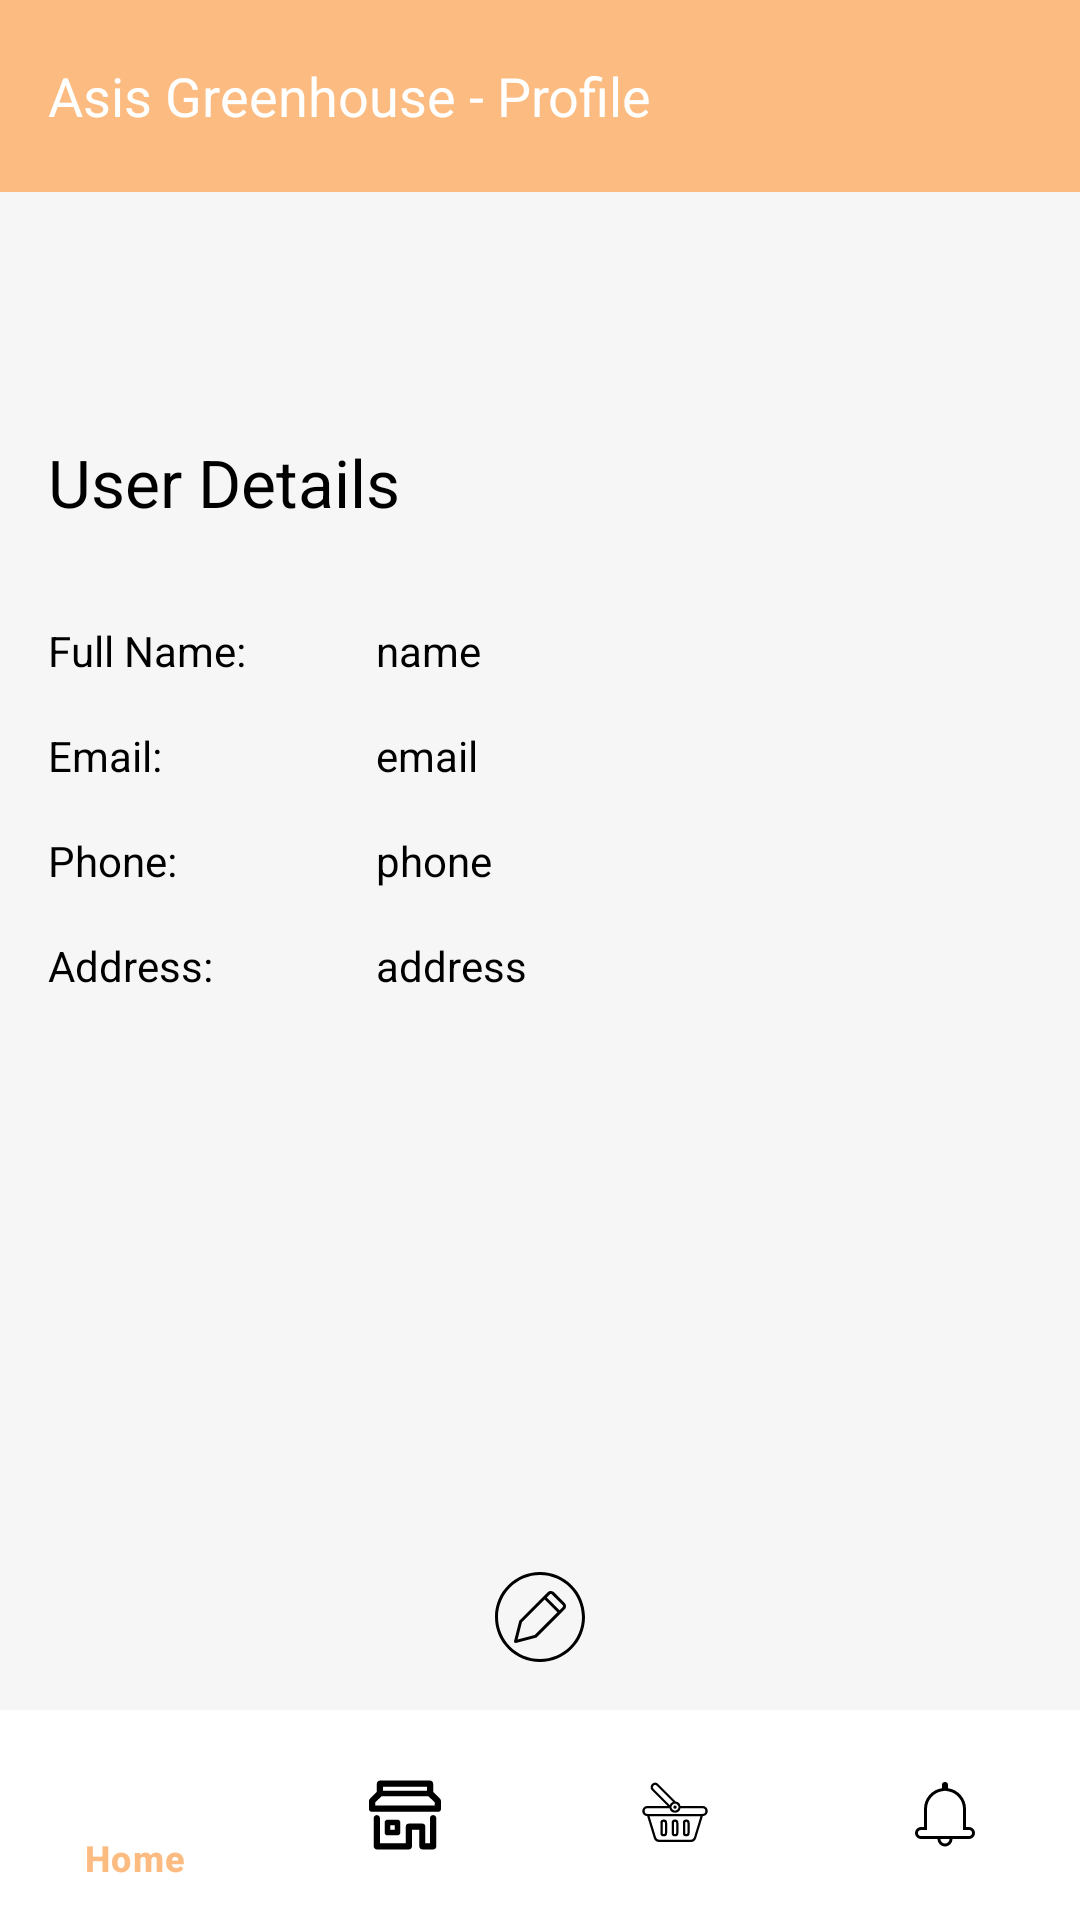

Named icons in this screenshot (1080px x 1920px) and their centers, (x,y):
edit: (540,1617)
